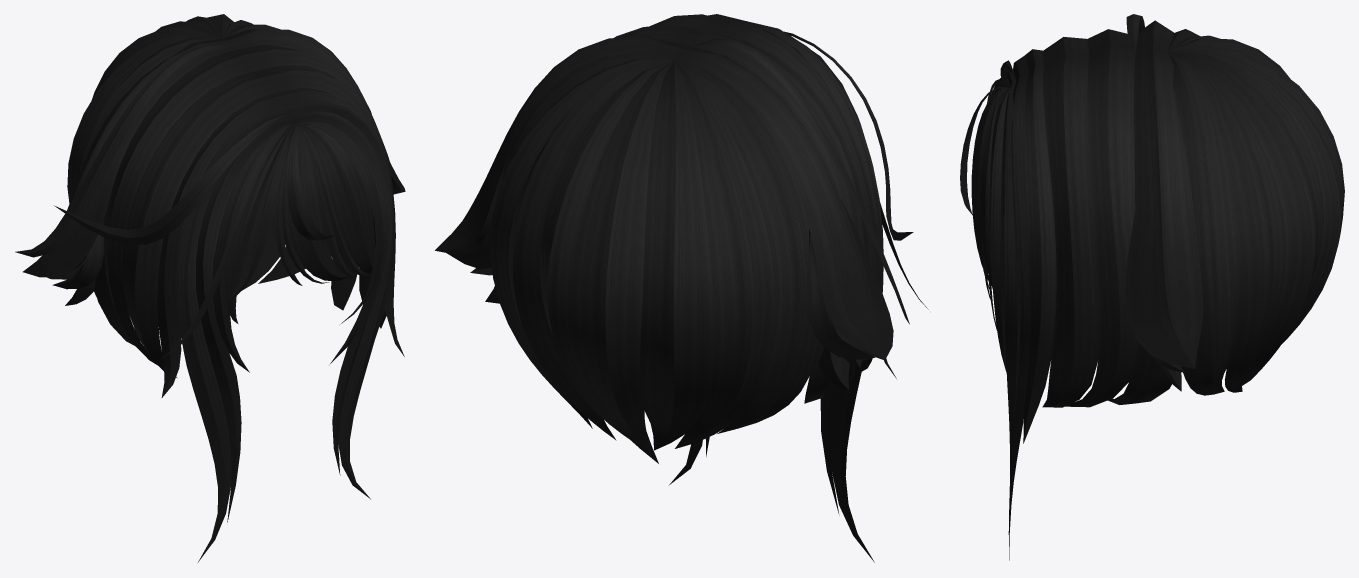
File: 04-messy-cute-short-hair-with-tufts-in-black-83295904708963.glb
The picture shows the model from 3 angles, left to right: view 1: azimuth 30°, elevation 25°; view 2: azimuth 150°, elevation 25°; view 3: azimuth 270°, elevation 25°; orthographic projection. The views are drawn at different scales.
Parts seen in each view (by area): view 1: messy-cute-short-hair-with-tufts-in-black; view 2: messy-cute-short-hair-with-tufts-in-black; view 3: messy-cute-short-hair-with-tufts-in-black.
Boxes of the visible parts, bbox=[...] form: messy-cute-short-hair-with-tufts-in-black: bbox=[15, 14, 405, 562]; messy-cute-short-hair-with-tufts-in-black: bbox=[435, 14, 928, 562]; messy-cute-short-hair-with-tufts-in-black: bbox=[960, 14, 1344, 560].
Size of the model in its own units: 2.19 by 2.47 by 1.69.
1 material, 1 textured.
